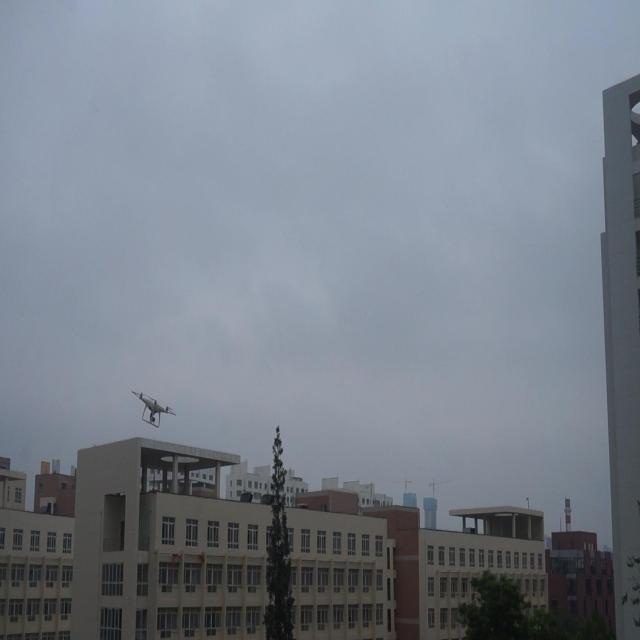drone: (132, 386, 176, 430)
